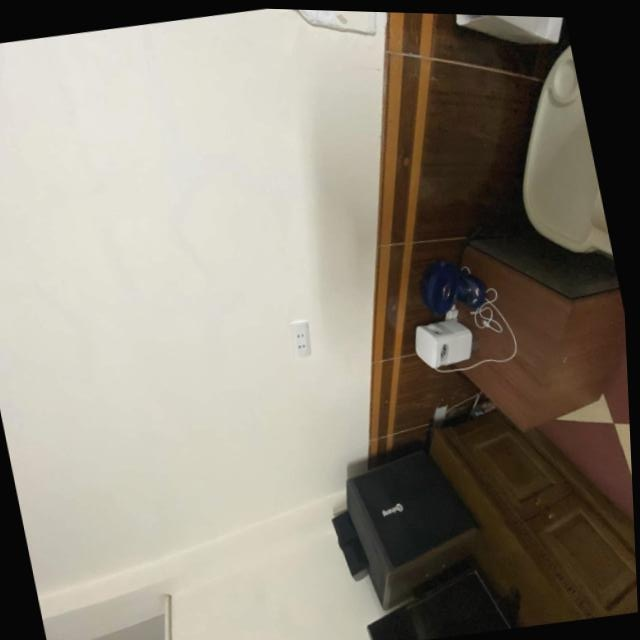outlet: (287, 320, 315, 360)
